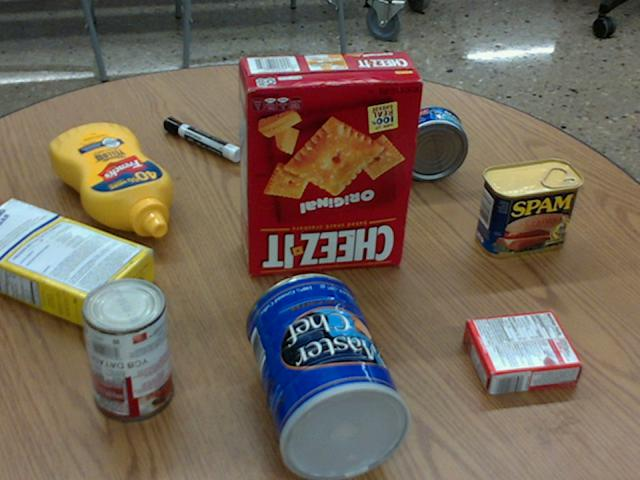cracker_box: (236, 50, 423, 276)
gelatin_box: (462, 308, 581, 393)
large_marker: (163, 117, 242, 161)
master_chef_can: (245, 272, 412, 479)
mug: (246, 58, 338, 147)
mustard_bottle: (49, 122, 172, 236)
potted_meat_can: (475, 158, 582, 258)
sugar_box: (0, 195, 154, 332)
tomato_soup_can: (82, 276, 175, 419)
tuna_fish_can: (391, 106, 466, 180)
